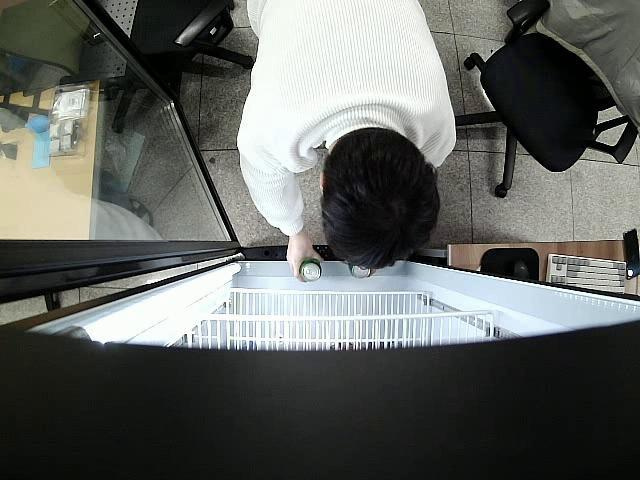12_chilsungCider: (300, 260, 322, 282)
